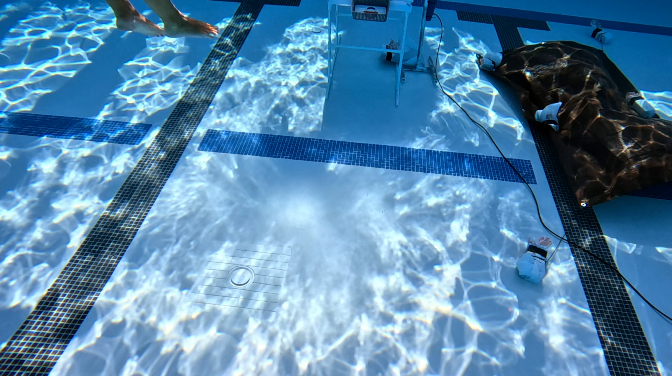sandbag: (482, 42, 671, 212), (519, 234, 552, 280), (589, 24, 613, 45)
